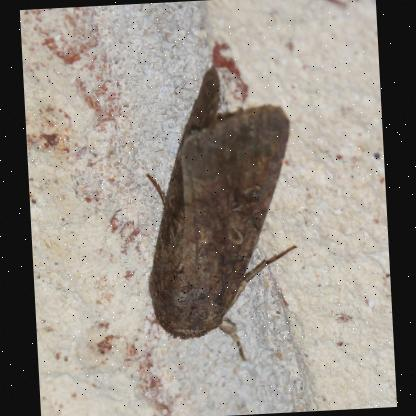Fall Armyworm Moth: (134, 57, 307, 370)
